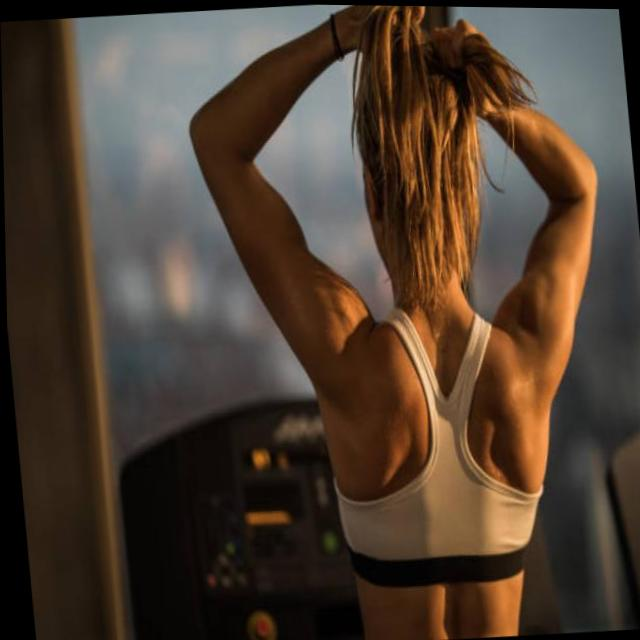no helmet: (340, 4, 508, 328)
